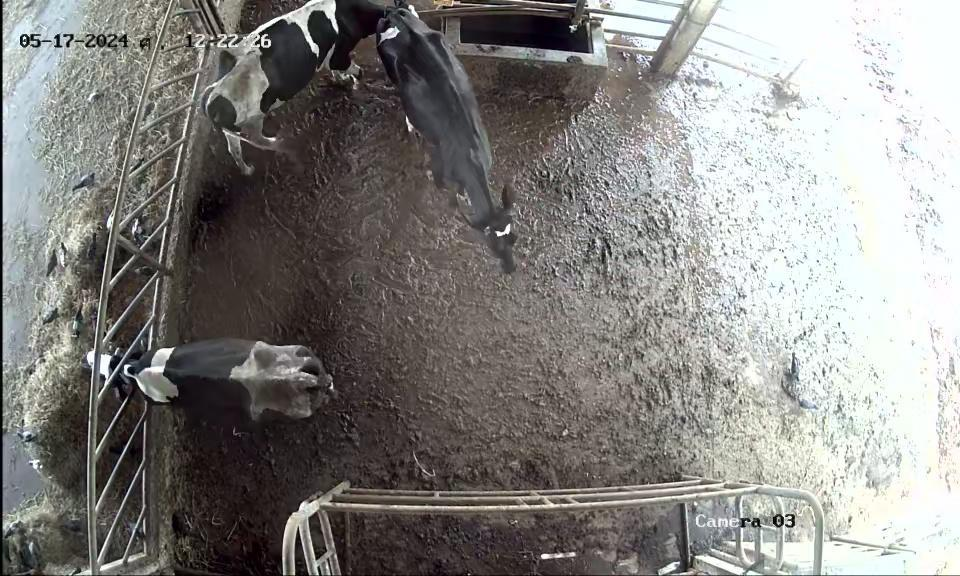eat: (67, 328, 192, 408)
stand: (377, 3, 529, 285), (193, 0, 399, 182)
